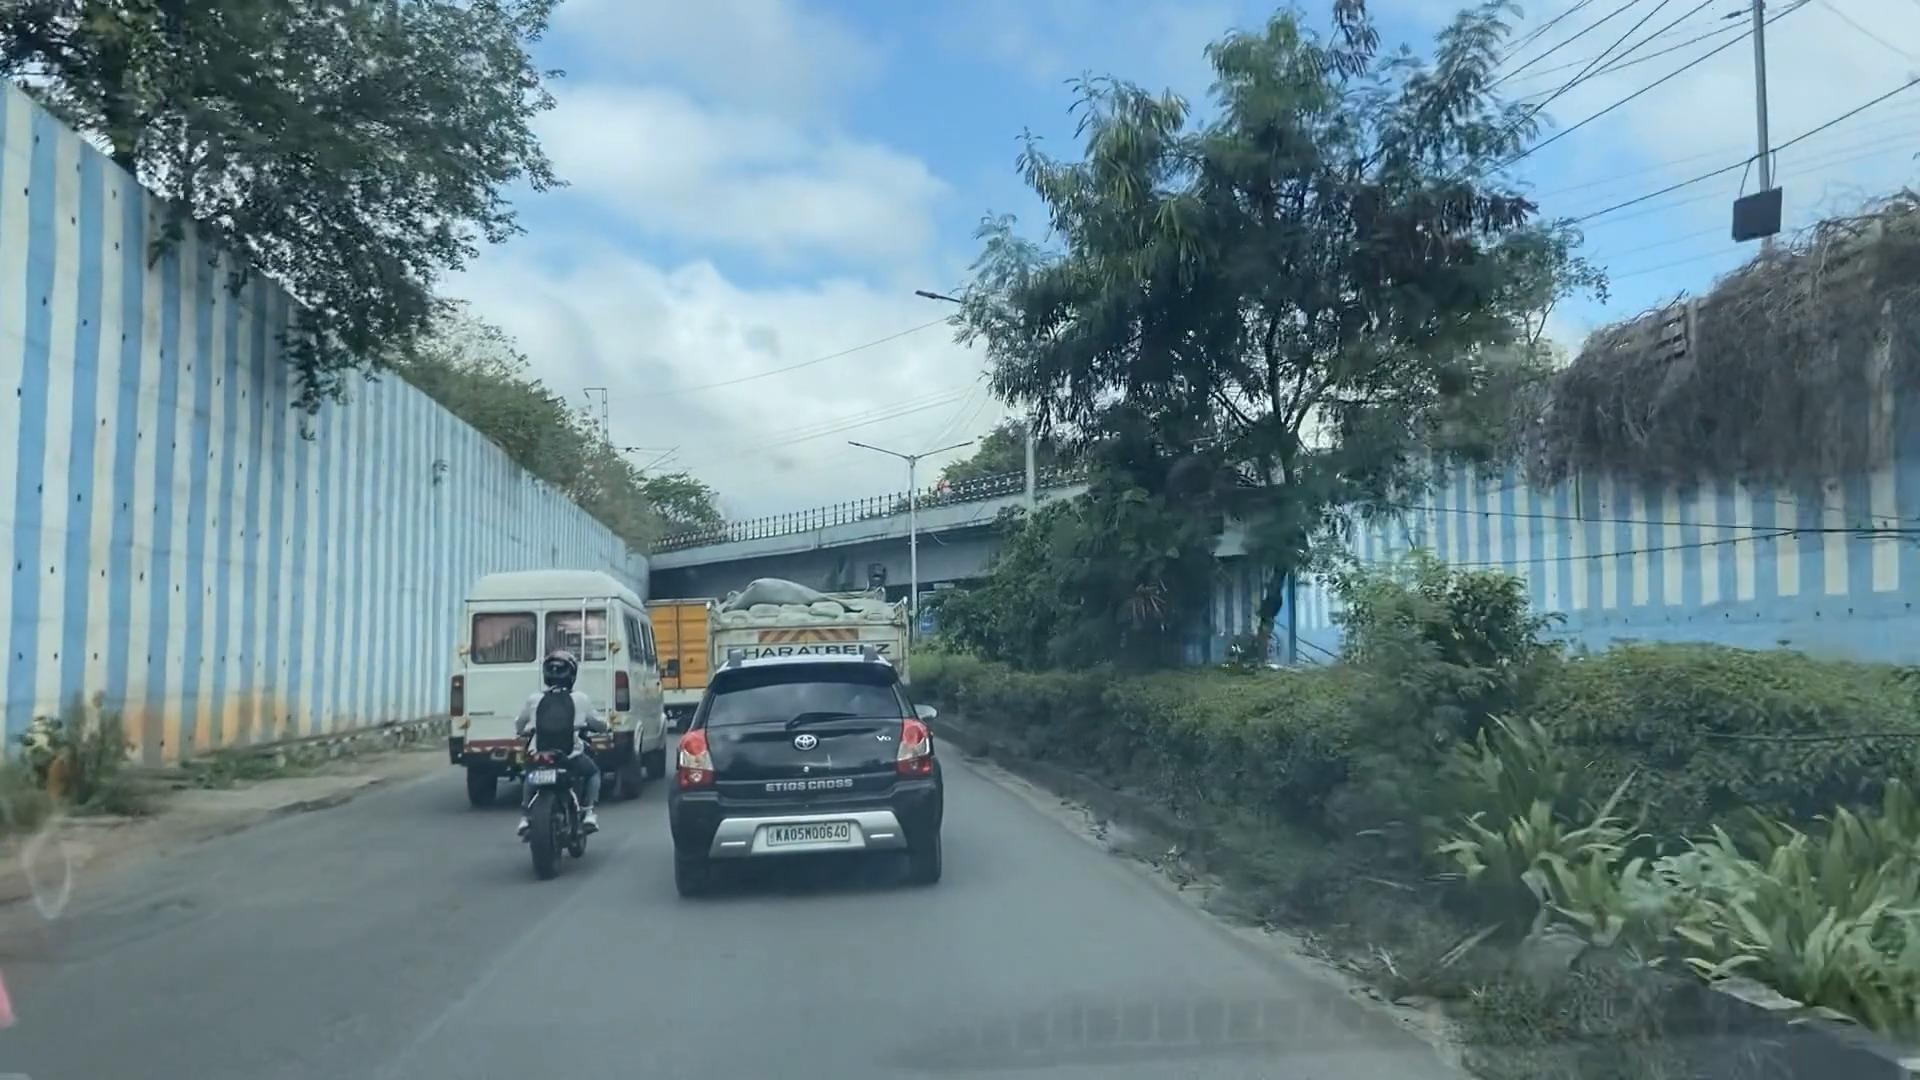HMV: (458, 574, 674, 800)
LMV: (670, 666, 951, 899), (504, 633, 604, 882)
